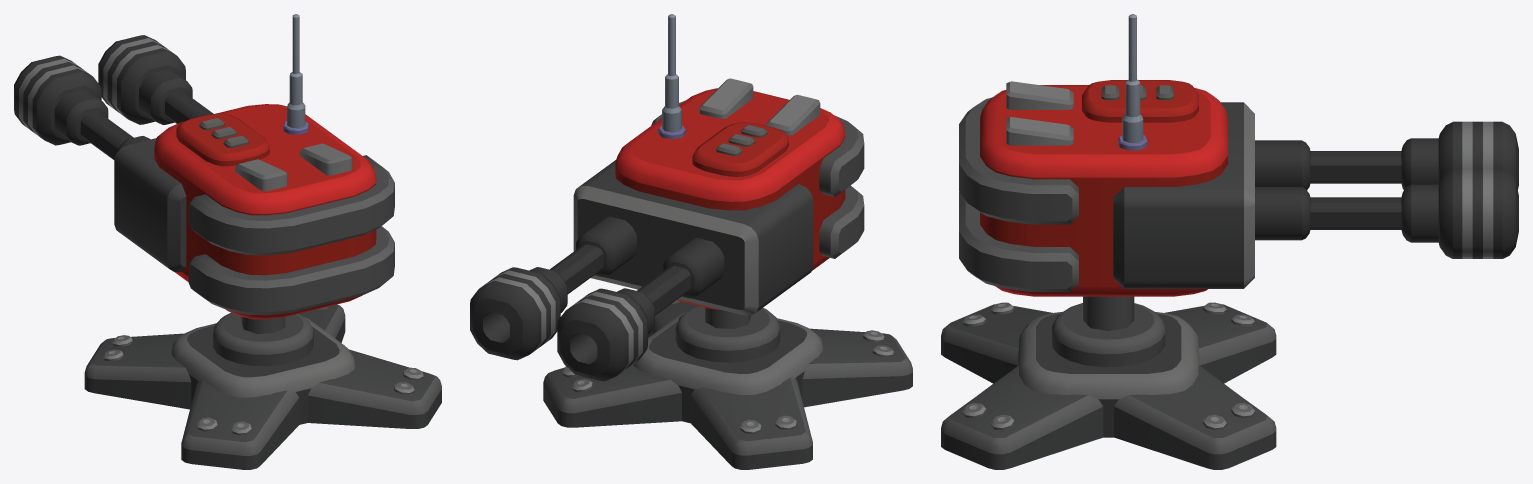
File: Turret_2_F.fbx
3 views of the same model, side by side, from view 1: azimuth 30°, elevation 25°; view 2: azimuth 150°, elevation 25°; view 3: azimuth 270°, elevation 25° (orthographic). The views are drawn at different scales.
Visible parts, largest first — view 1: Turret_2_F_M, Turret_2_F, Turret_2_F_PL, Turret_2_F_PR, Turret_2_E_T.001; view 2: Turret_2_F_M, Turret_2_F, Turret_2_F_PL, Turret_2_F_PR, Turret_2_E_T.001; view 3: Turret_2_F_M, Turret_2_F, Turret_2_F_PR, Turret_2_F_PL, Turret_2_E_T.001.
Boxes of the visible parts, left/top/right/bottom form: Turret_2_F_M: left=114, top=14, right=394, bottom=319; Turret_2_F: left=84, top=304, right=441, bottom=469; Turret_2_F_PL: left=14, top=55, right=150, bottom=159; Turret_2_F_PR: left=98, top=35, right=213, bottom=124; Turret_2_E_T.001: left=213, top=312, right=313, bottom=366; Turret_2_F_M: left=573, top=14, right=864, bottom=315; Turret_2_F: left=543, top=300, right=912, bottom=469; Turret_2_F_PL: left=557, top=238, right=724, bottom=381; Turret_2_F_PR: left=470, top=216, right=636, bottom=360; Turret_2_E_T.001: left=675, top=305, right=780, bottom=362; Turret_2_F_M: left=959, top=14, right=1254, bottom=296; Turret_2_F: left=941, top=302, right=1276, bottom=469; Turret_2_F_PR: left=1255, top=168, right=1518, bottom=258; Turret_2_F_PL: left=1255, top=121, right=1518, bottom=189; Turret_2_E_T.001: left=1052, top=296, right=1165, bottom=367.
Size of the model in its own units: 210 by 283 by 363.
